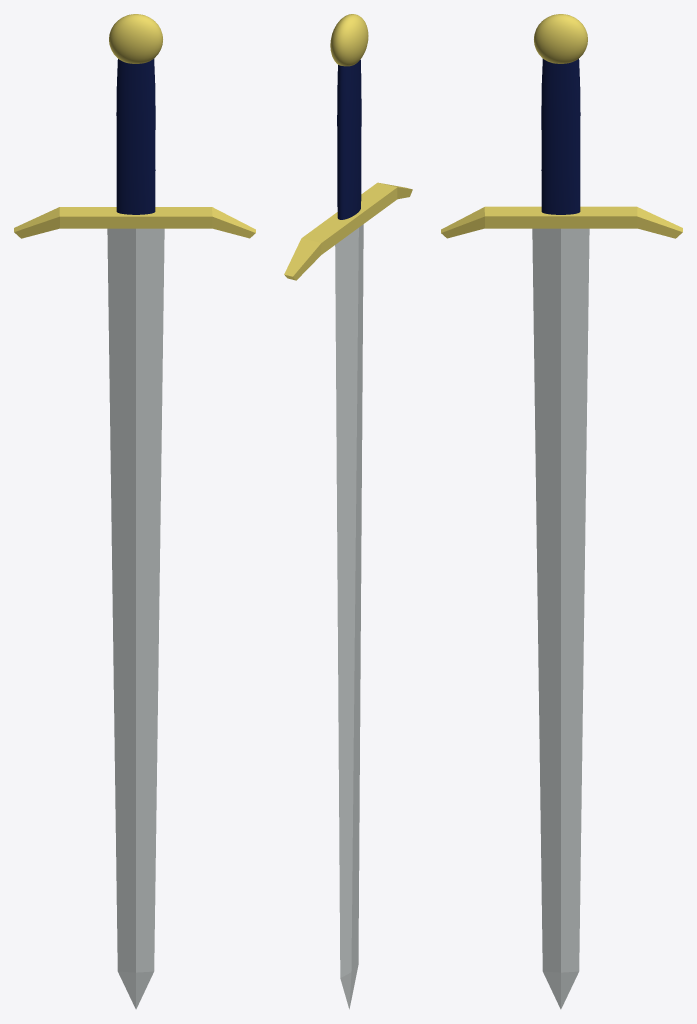
Rendered from arming_sword.fbx.
3 renders of one model, left to right at view 1: azimuth 90°, elevation 25°; view 2: azimuth 150°, elevation 25°; view 3: azimuth 270°, elevation 25°, orthographic.
Parts seen in each view (by area): view 1: Blade, Hilt, Crossguard, Pommel; view 2: Blade, Hilt, Crossguard, Pommel; view 3: Blade, Hilt, Crossguard, Pommel.
Part boxes in pixels (x1=…): Blade: x1=107, y1=228, x2=164, y2=1009; Hilt: x1=116, y1=58, x2=155, y2=214; Crossguard: x1=14, y1=207, x2=255, y2=238; Pommel: x1=109, y1=14, x2=162, y2=63; Blade: x1=335, y1=224, x2=363, y2=1009; Hilt: x1=337, y1=59, x2=361, y2=219; Crossguard: x1=284, y1=182, x2=412, y2=280; Pommel: x1=330, y1=14, x2=368, y2=66; Blade: x1=532, y1=228, x2=589, y2=1009; Hilt: x1=541, y1=58, x2=580, y2=214; Crossguard: x1=441, y1=206, x2=682, y2=238; Pommel: x1=534, y1=14, x2=587, y2=63.
Bounding box in the file's own units: 81.71 × 2884 × 635.
